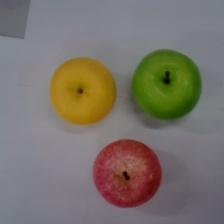green: (132, 49, 202, 120)
red: (93, 138, 162, 207)
yellow: (50, 58, 117, 124)
